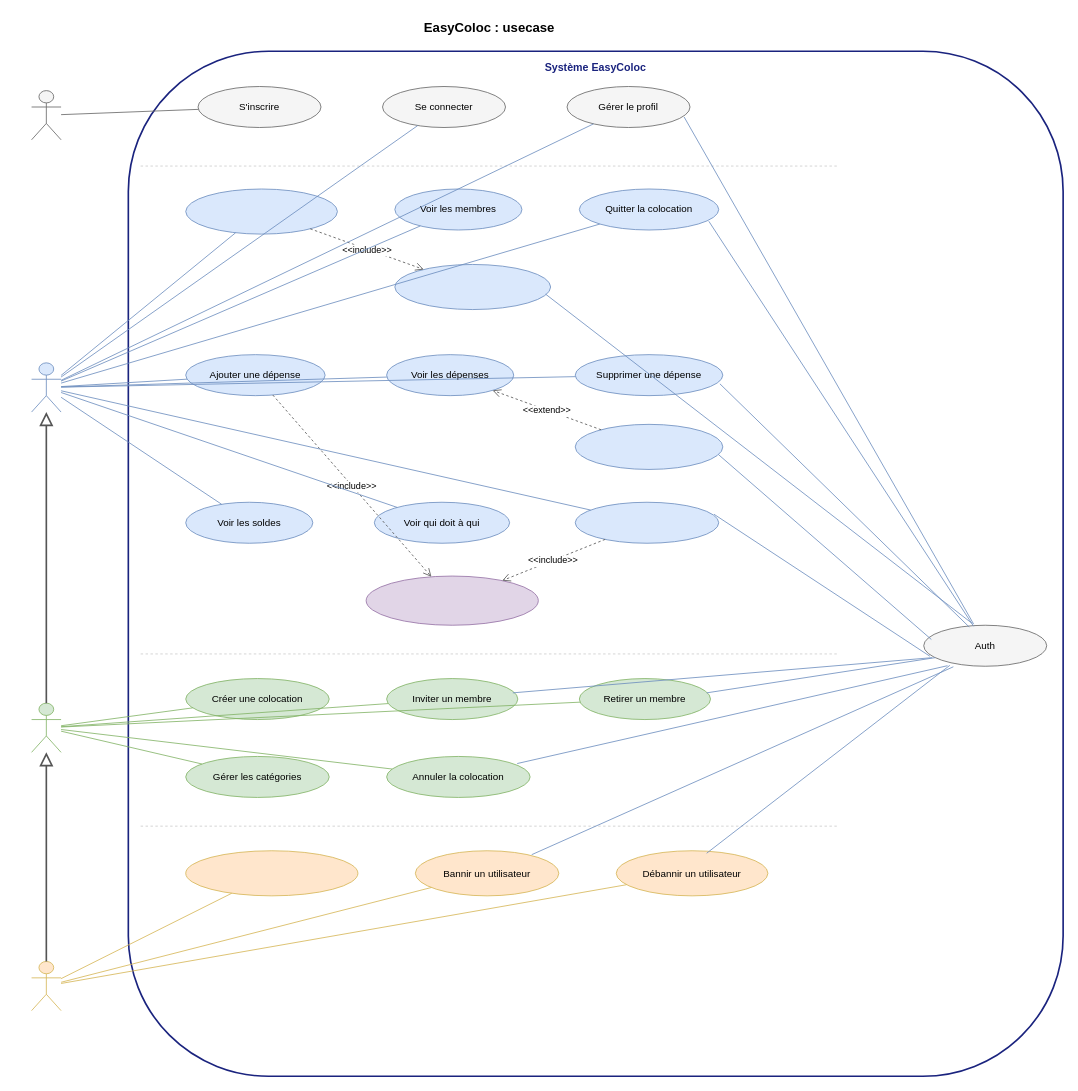
Some shapes in this 1078 by 1091 pixel diagram are drawn without their labels. The centre of each missing label's shape, as x and y in pixels:
"Accepter / Refuser invitation" belongs at point 472,287.
"Calculer les balances automatiquement" belongs at point 451,600.
"Filtrer dépenses par mois" belongs at point 648,446.
"Global Admin" belongs at point 46,986.
"Marquer un paiement" belongs at point 646,522.
"Member" belongs at point 46,387.
"Owner" belongs at point 46,727.
"Rejoindre une colocation" belongs at point 261,211.
"Visiteur" belongs at point 46,115.
"Voir les statistiques globales" belongs at point 271,873.
